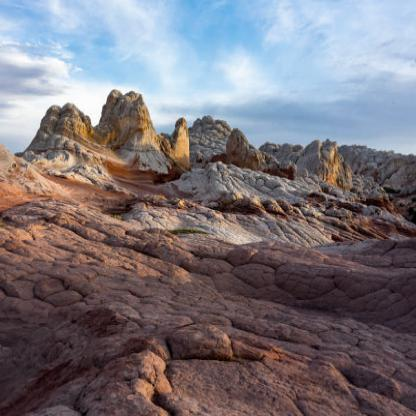Sedimentary_Sandstone: (232, 235, 415, 308), (89, 341, 171, 415), (167, 301, 235, 356), (100, 84, 151, 151), (38, 101, 93, 151), (296, 136, 345, 186), (165, 114, 193, 166)
